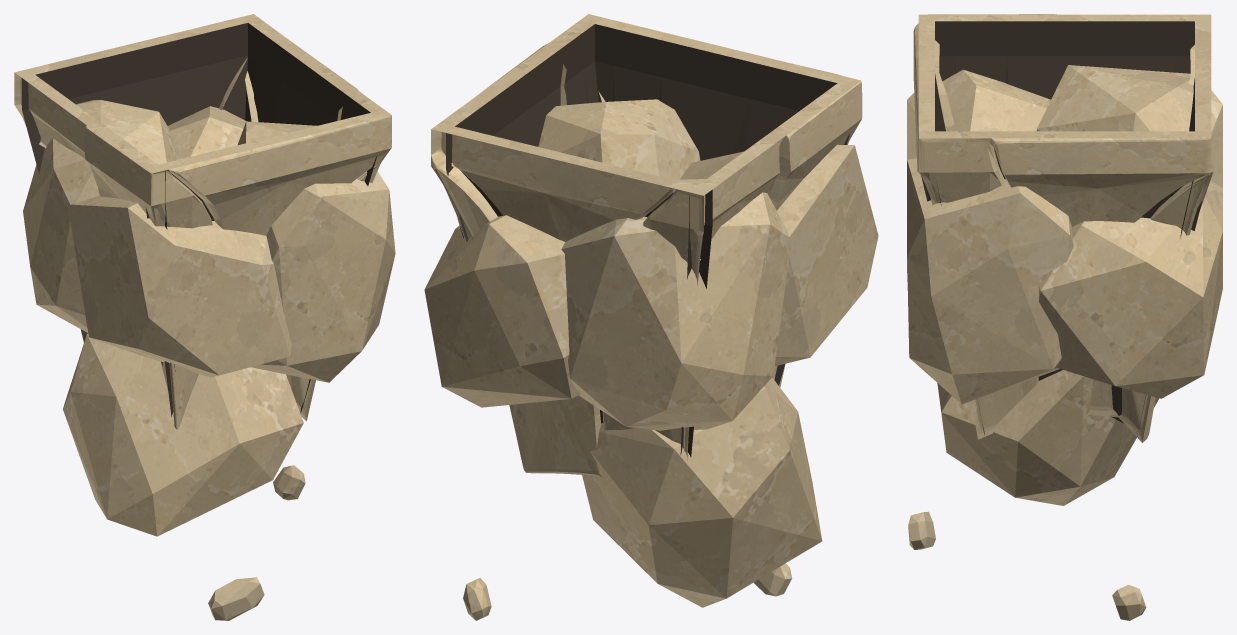
The model's file is ground_bottom_island_05.glb.
3 renders of one model, left to right at view 1: azimuth 30°, elevation 25°; view 2: azimuth 150°, elevation 25°; view 3: azimuth 270°, elevation 25°, orthographic. The views are drawn at different scales.
Parts seen in each view (by area): view 1: GroundBottomIsland05_Body; view 2: GroundBottomIsland05_Body; view 3: GroundBottomIsland05_Body.
Boxes of the visible parts, x1=… form: GroundBottomIsland05_Body: x1=14, y1=14, x2=395, y2=620; GroundBottomIsland05_Body: x1=424, y1=14, x2=878, y2=620; GroundBottomIsland05_Body: x1=907, y1=14, x2=1222, y2=620.
Bounding box in the file's own units: 1.08 × 1.87 × 1.08.
Materials: 15 (14 with a texture image).
